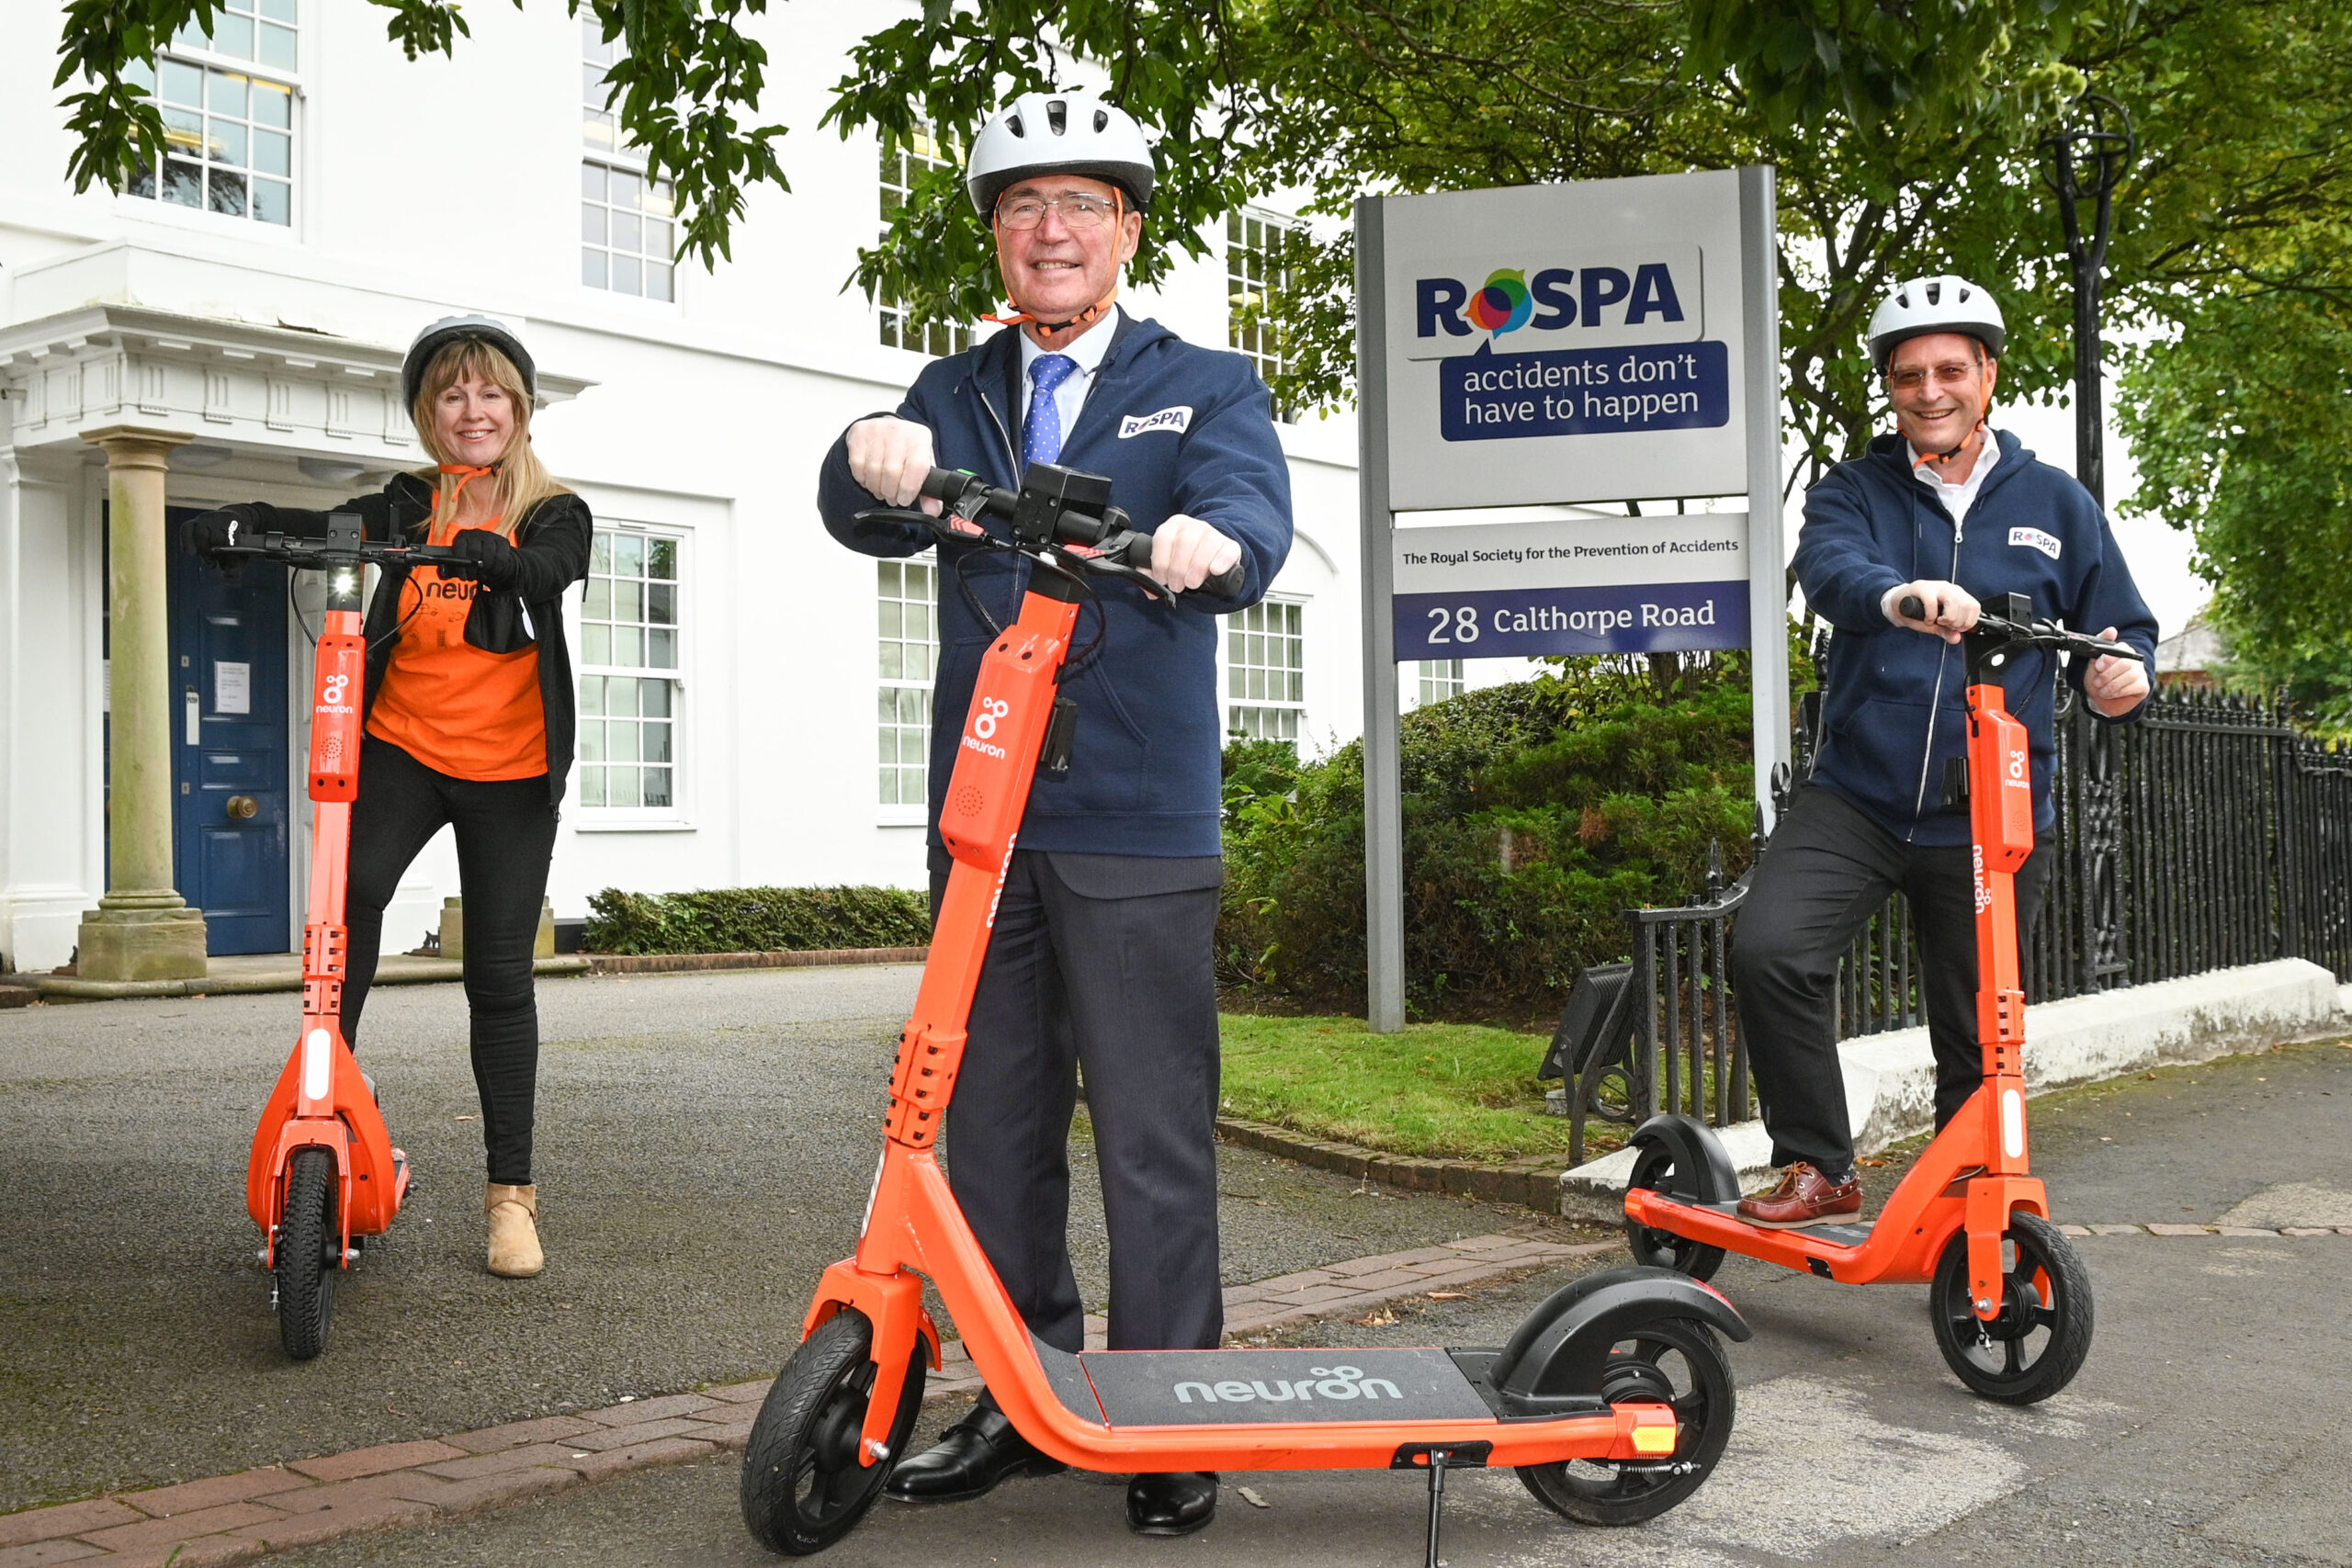scooter: (733, 458, 1736, 1568), (1613, 600, 2142, 1417), (213, 522, 528, 1370)
with helmet: (966, 87, 1167, 341), (1853, 257, 2019, 464)
